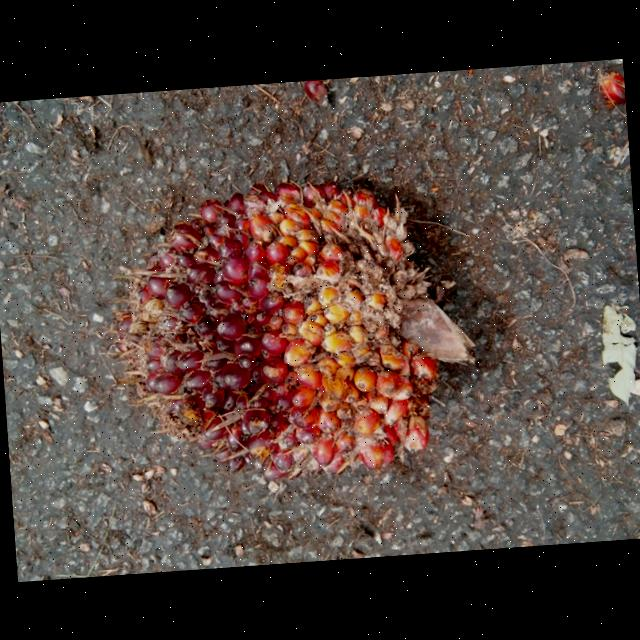Ripe: (115, 176, 458, 484)
